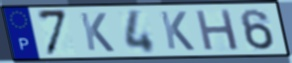4: (124, 8, 158, 55)
6: (239, 8, 276, 51)
7: (37, 8, 71, 58)
H: (193, 8, 241, 53)
K: (158, 10, 197, 52), (78, 11, 117, 53)
